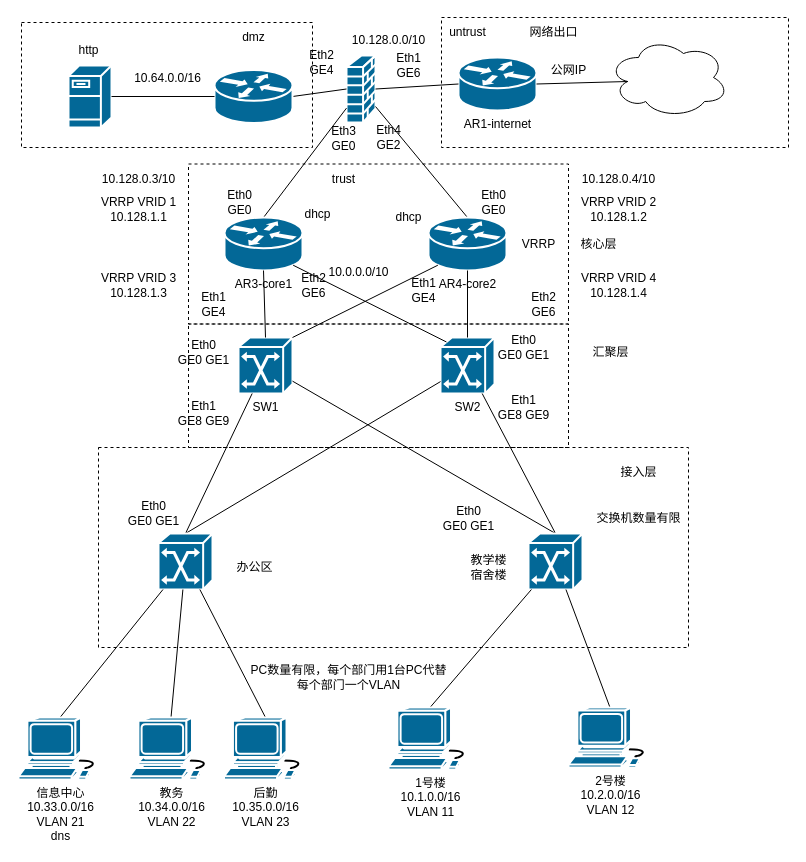
The diagram is 806 pixels wide and 862 high, and some of its shapes have lost their labels. Here are the shapes that lost their labels. From the top down, the centre of each, then its label:
point (253, 96): AR2-dmz
point (668, 77): Internet
point (185, 561): SW3
point (555, 561): SW4
